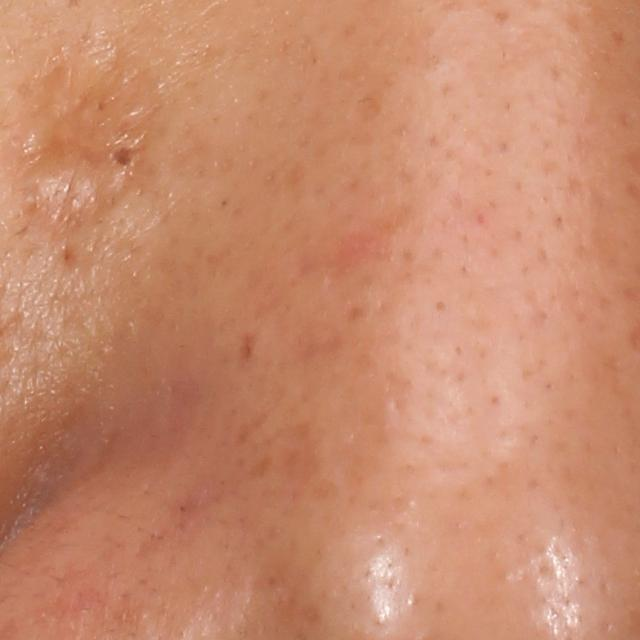other: (1, 38, 172, 243)
